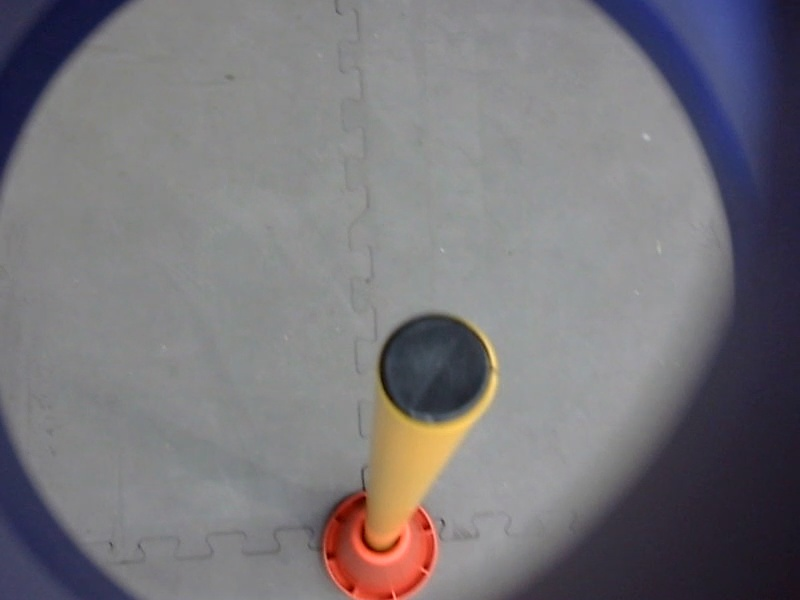tip: (368, 303, 506, 436)
